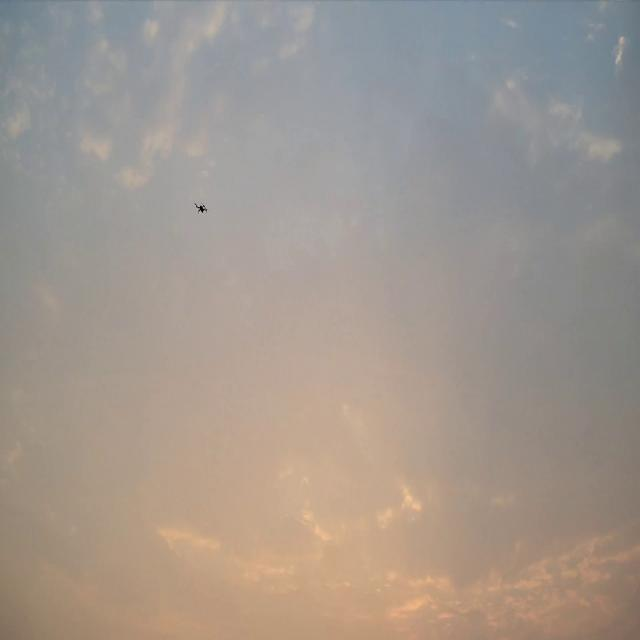drone: (194, 202, 209, 213)
